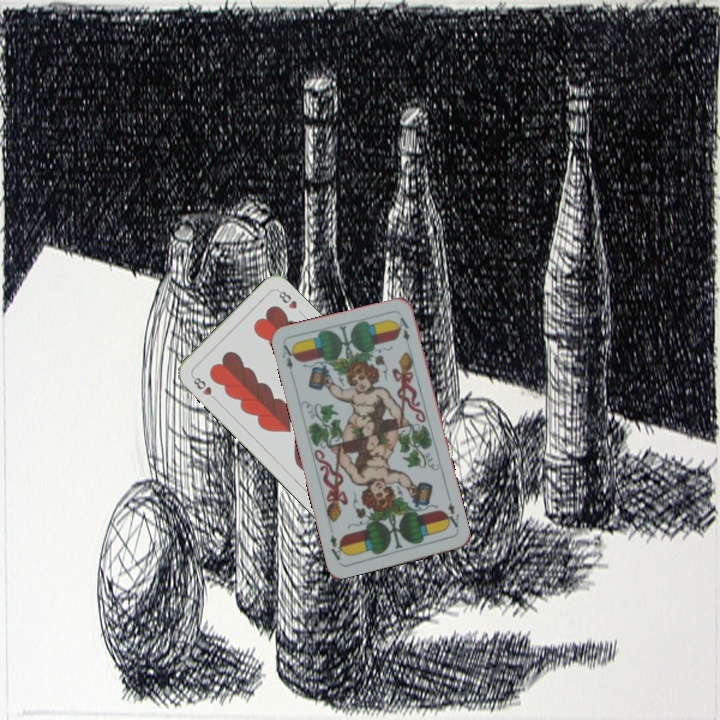EA: (440, 499, 462, 534), (277, 341, 299, 372)
H8: (188, 372, 221, 404)
